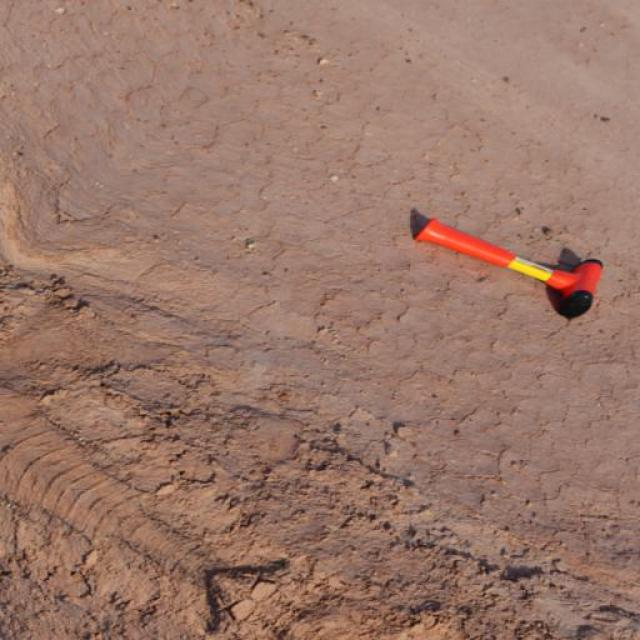mallet: (408, 205, 602, 319)
